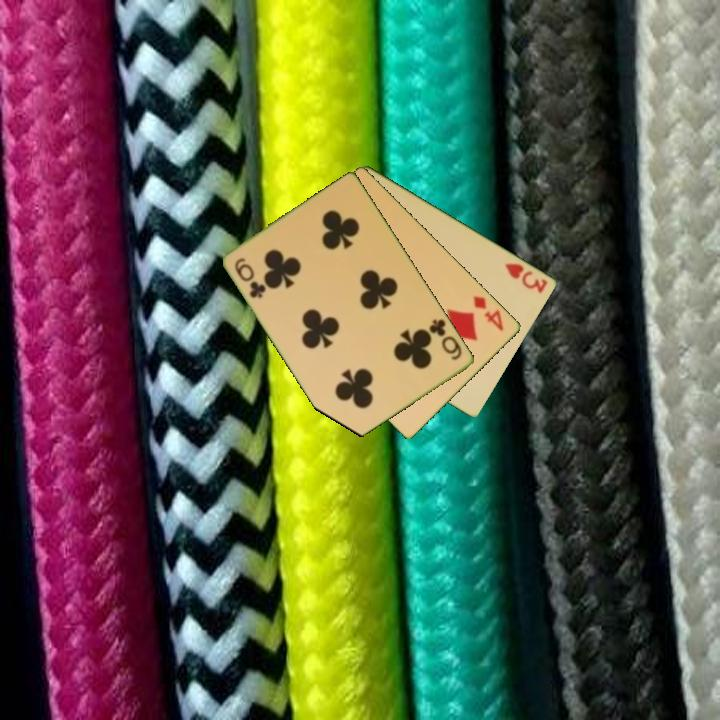3h: (502, 259, 551, 296)
4d: (470, 292, 507, 334)
6c: (426, 315, 465, 363), (231, 254, 269, 301)
